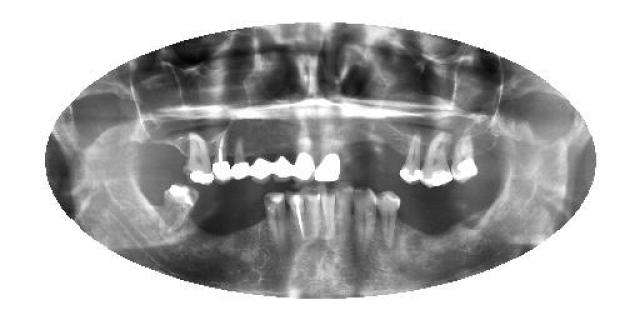Fillings: (314, 114, 340, 185), (422, 131, 453, 189), (292, 118, 314, 184), (397, 132, 422, 186), (188, 128, 212, 184), (454, 129, 478, 185), (229, 130, 249, 182), (270, 152, 294, 180), (250, 155, 272, 184)
Implant: (286, 191, 308, 250), (214, 127, 230, 185)
